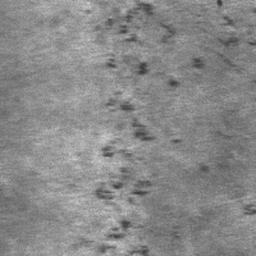Rolled in scale: (77, 0, 180, 256), (193, 0, 256, 84), (244, 204, 256, 216), (217, 131, 231, 139), (172, 226, 180, 239), (171, 139, 182, 145)
